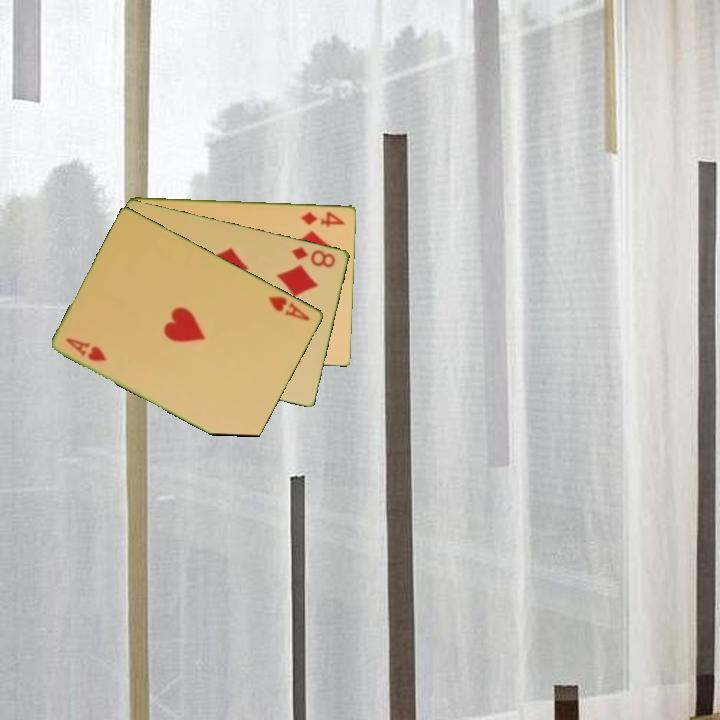4d: (298, 208, 348, 229)
8d: (288, 243, 339, 270)
Ah: (265, 292, 313, 324), (63, 334, 110, 364)
